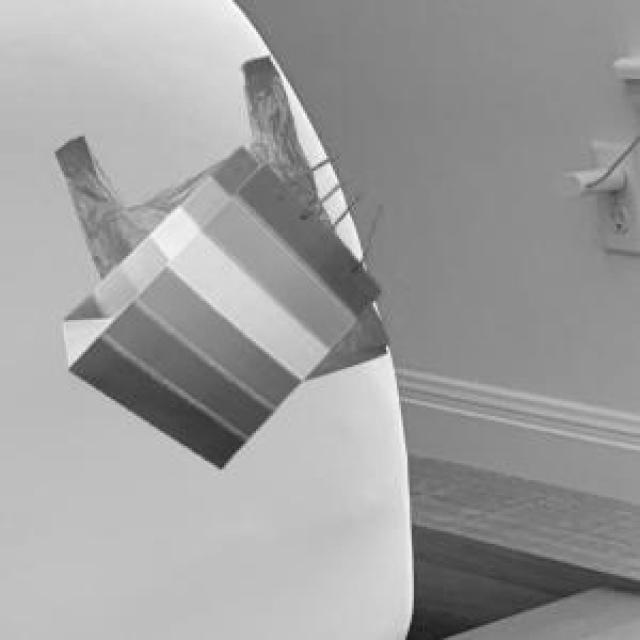paper: (58, 143, 378, 465)
